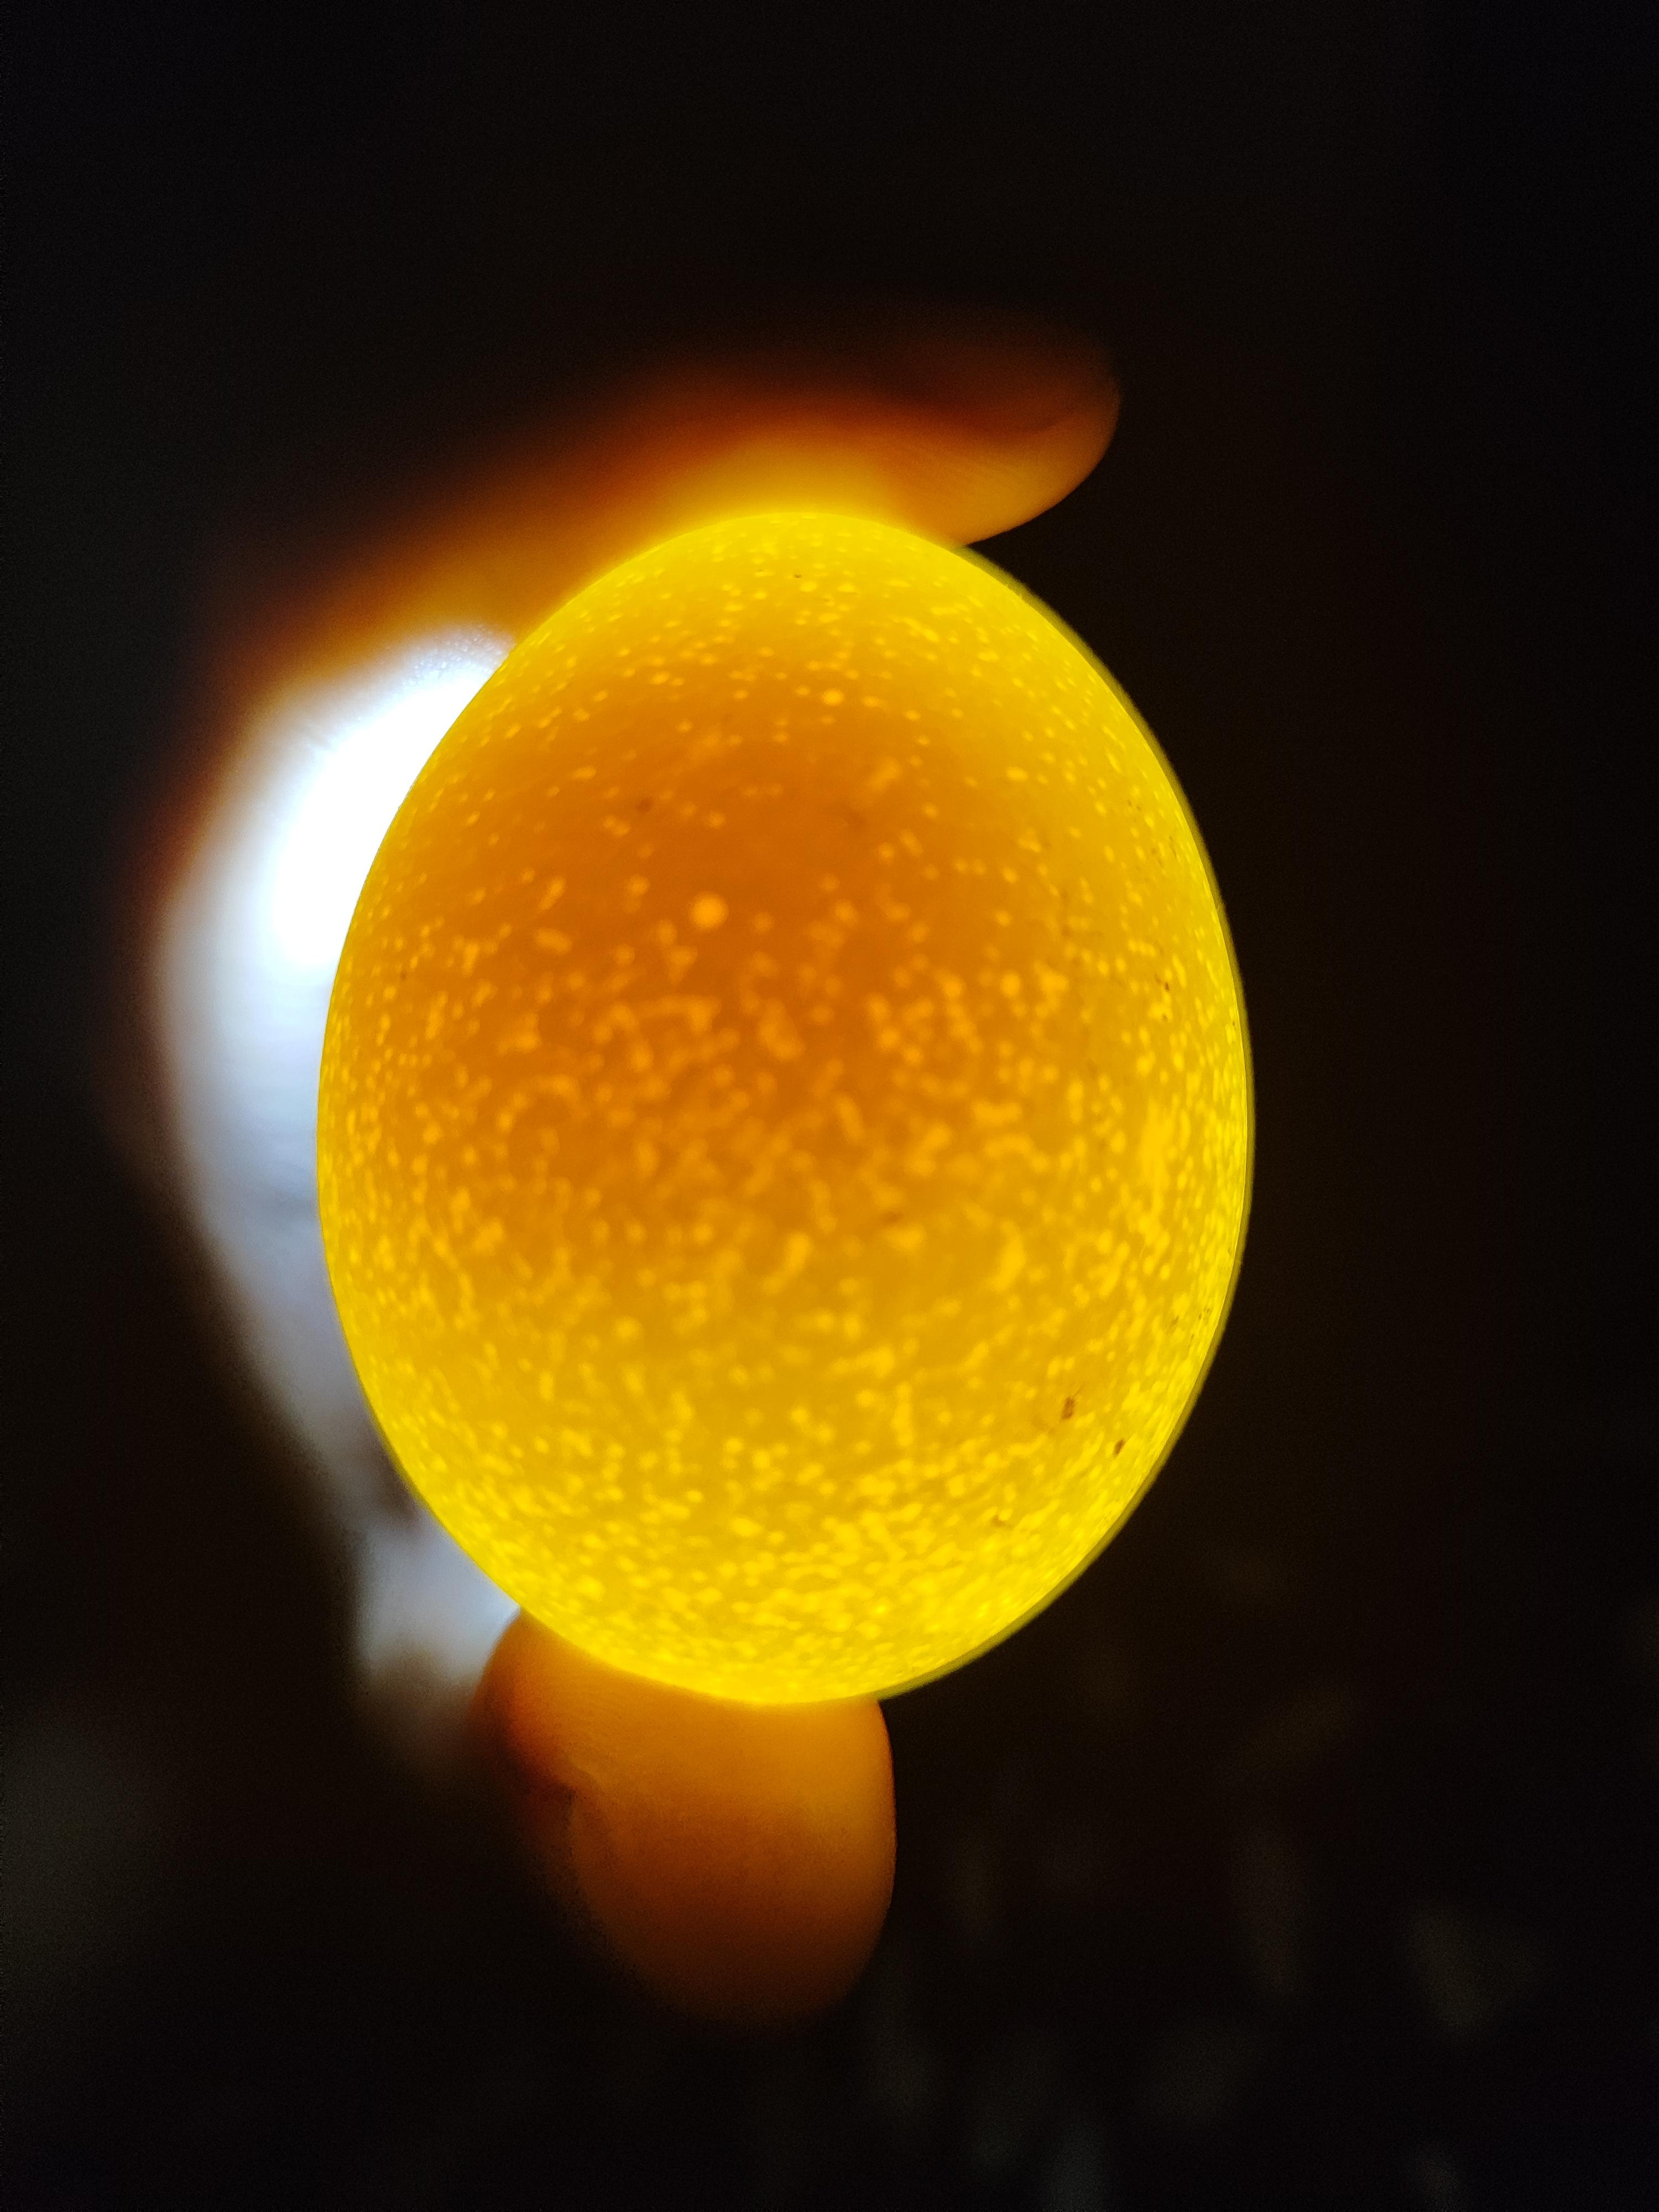A - Good: (310, 484, 1262, 1709)
